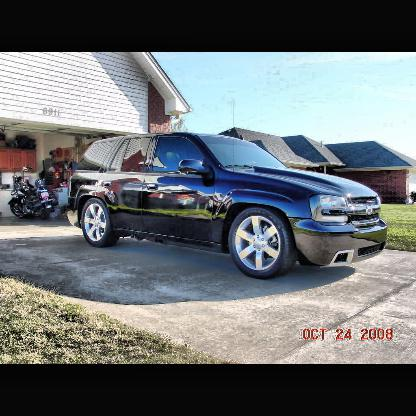Chevrolet TrailBlazer SS 2009: (71, 133, 390, 282)
